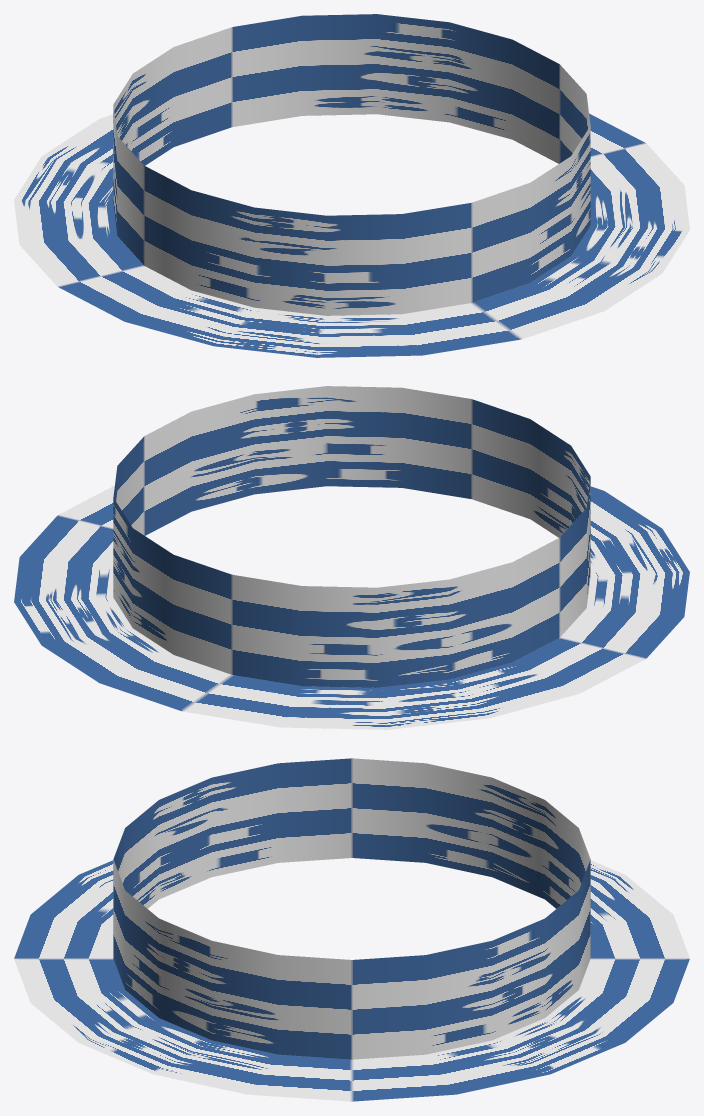
File: Ring_RuiSkl3_1.fbx
The picture shows the model from 3 angles, top to bottom: view 1: azimuth 30°, elevation 25°; view 2: azimuth 150°, elevation 25°; view 3: azimuth 270°, elevation 25°; orthographic projection.
Parts seen in each view (by area): view 1: SM_e_Plc_P1007_AtkSkl03_Ring001; view 2: SM_e_Plc_P1007_AtkSkl03_Ring001; view 3: SM_e_Plc_P1007_AtkSkl03_Ring001.
Boxes of the visible parts, x1,y1,x2,y2 form: SM_e_Plc_P1007_AtkSkl03_Ring001: [14, 14, 689, 357]; SM_e_Plc_P1007_AtkSkl03_Ring001: [14, 386, 689, 729]; SM_e_Plc_P1007_AtkSkl03_Ring001: [14, 758, 689, 1101].
Size of the model in its own units: 31.92 by 5.19 by 31.92.
